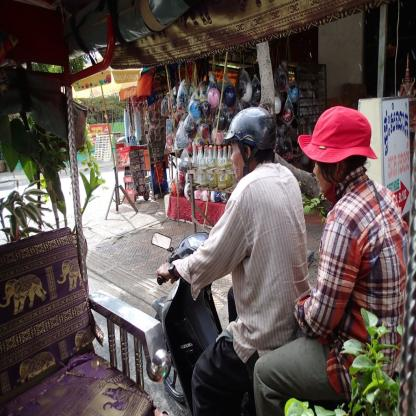Helmet: (231, 107, 283, 164), (237, 77, 252, 104), (222, 83, 236, 110), (183, 115, 198, 138), (212, 108, 226, 132), (274, 68, 288, 90), (210, 128, 226, 146), (280, 103, 294, 123), (285, 86, 298, 107), (175, 123, 184, 152), (251, 79, 261, 102), (198, 121, 210, 139), (194, 138, 209, 152), (201, 100, 211, 120), (190, 102, 201, 119), (226, 114, 236, 126), (274, 94, 279, 115), (186, 138, 191, 157)
